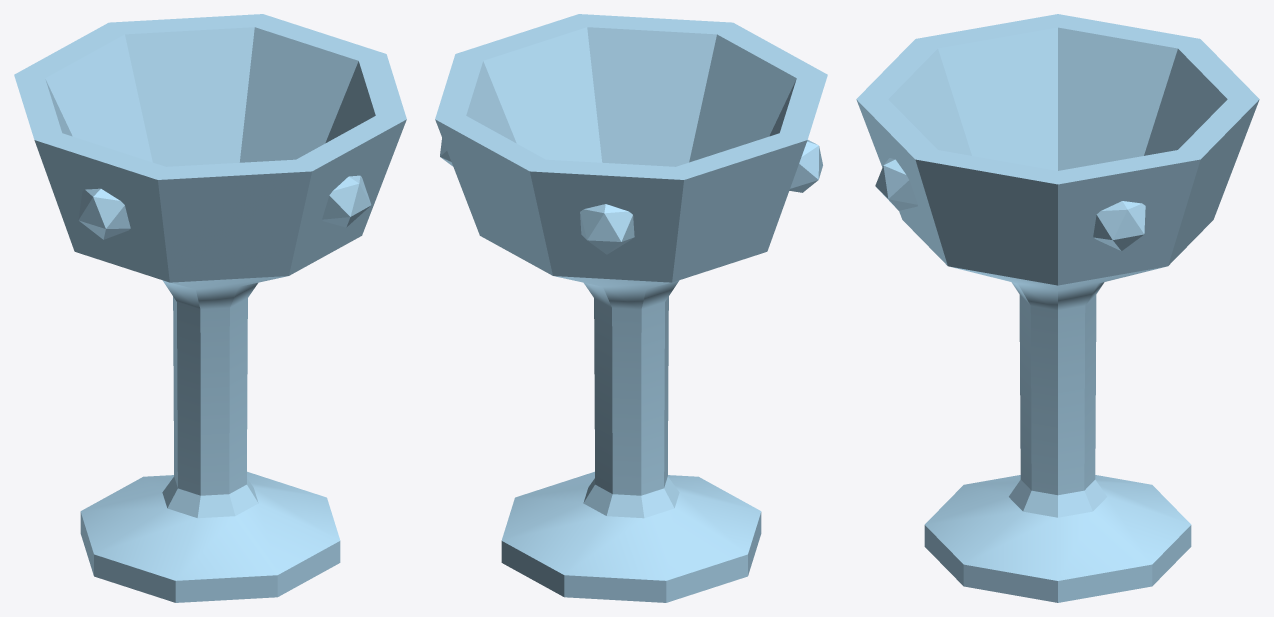
Rendered from SM_Chalice_01.fbx.
The picture shows the model from 3 angles, left to right: view 1: azimuth 30°, elevation 25°; view 2: azimuth 150°, elevation 25°; view 3: azimuth 270°, elevation 25°; orthographic projection.
Visible parts, largest first — view 1: Chalice01, Gem02, Gem03; view 2: Chalice01, Gem01, Gem02; view 3: Chalice01, Gem04, Gem03.
Part boxes in pixels (x1=…): Chalice01: x1=14, y1=14, x2=406, y2=602; Gem02: x1=78, y1=188, x2=130, y2=239; Gem03: x1=322, y1=175, x2=371, y2=227; Chalice01: x1=435, y1=14, x2=827, y2=602; Gem01: x1=580, y1=204, x2=634, y2=254; Gem02: x1=789, y1=140, x2=822, y2=192; Chalice01: x1=856, y1=14, x2=1259, y2=602; Gem04: x1=1093, y1=201, x2=1145, y2=251; Gem03: x1=875, y1=158, x2=917, y2=210.
Bounding box in the file's own units: 28.1 × 34.38 × 28.1.
